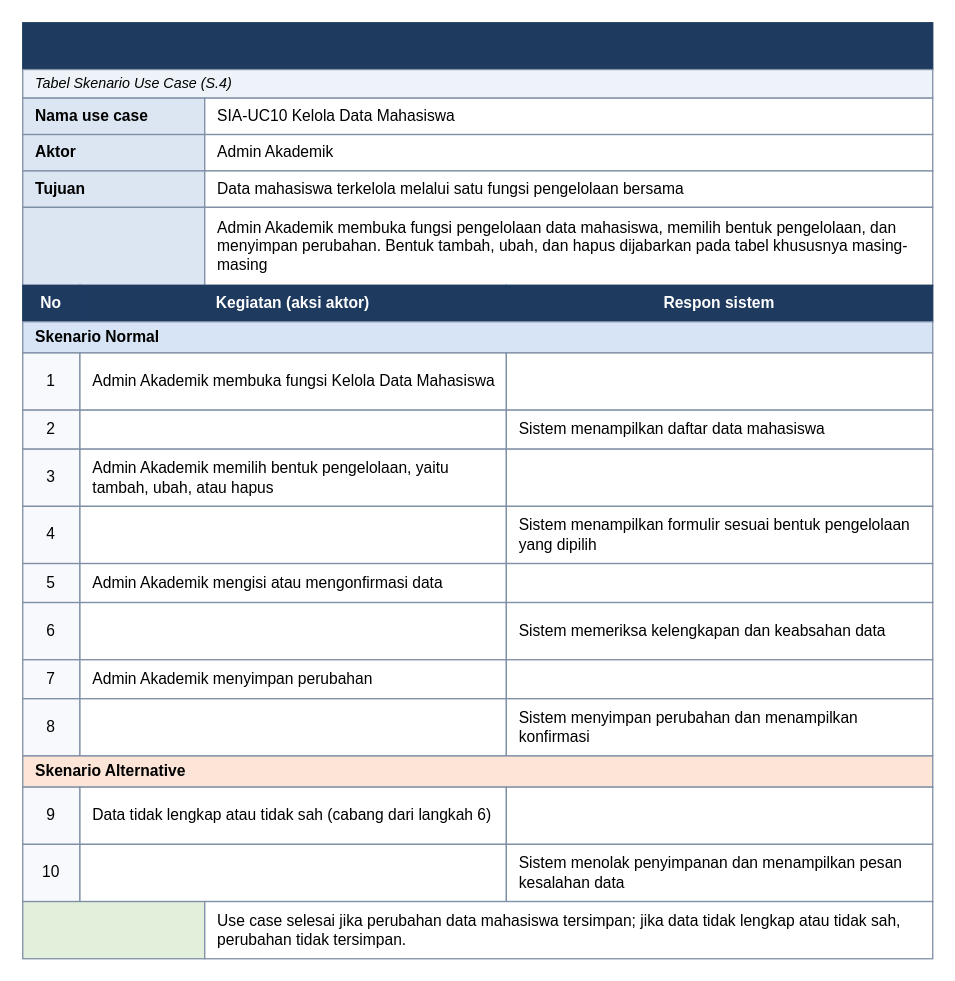
Some shapes in this 955 by 981 pixel diagram are drawn without their labels. Here are the shapes that lost their labels. From the top down, the centre of each, then its label:
At [477,45]: "SIA-UC10 | Kelola Data Mahasiswa".
At [113,245]: "Deskripsi".
At [113,929]: "Skenario Akhir".
